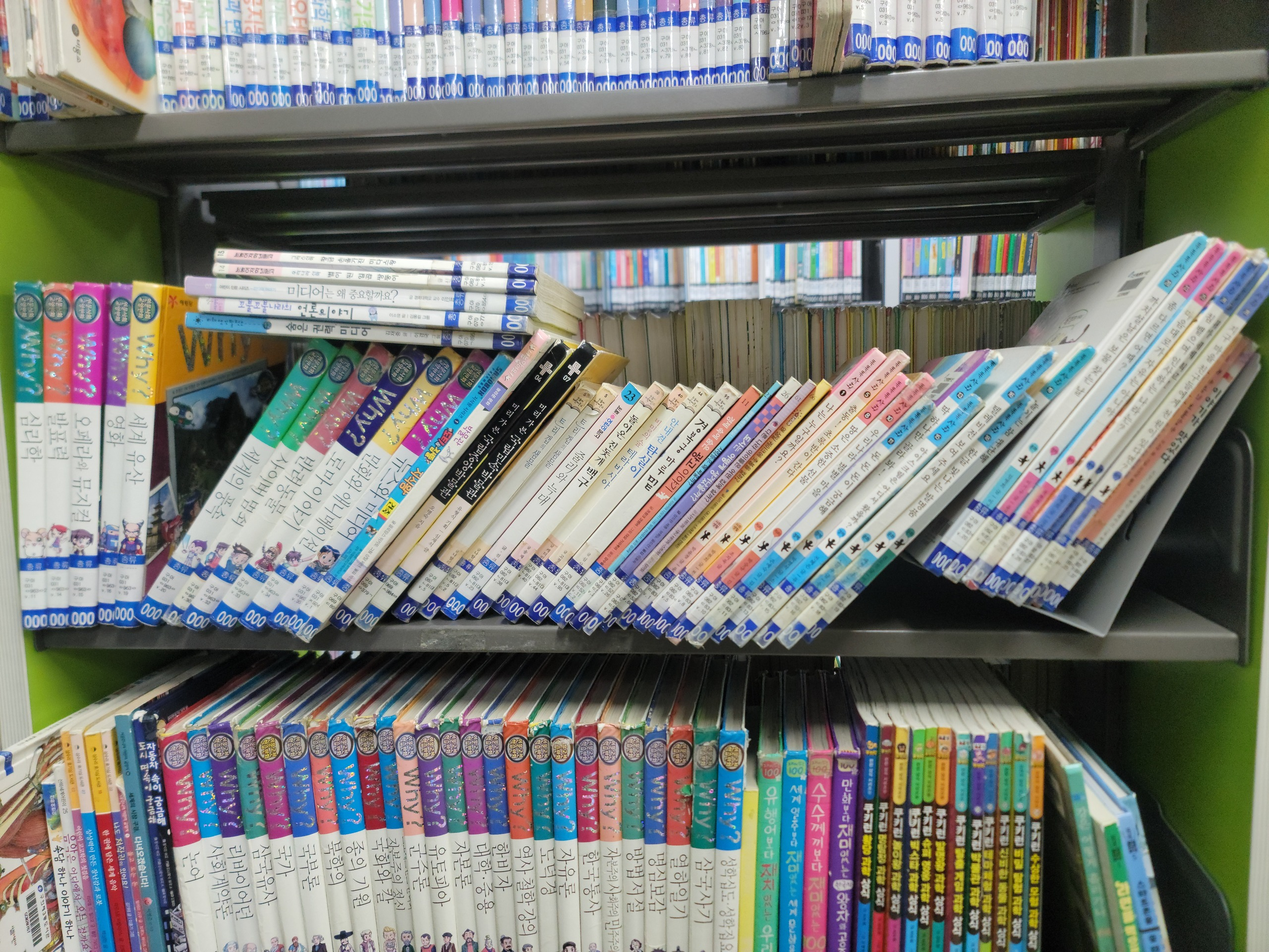book-spine: (925, 239, 1226, 595), (974, 247, 1268, 598), (906, 254, 1191, 595), (1003, 270, 1268, 607), (302, 326, 549, 638), (663, 373, 933, 644), (354, 337, 600, 631), (220, 343, 463, 630), (331, 347, 560, 632), (264, 349, 492, 633), (206, 345, 431, 632), (177, 343, 395, 633), (126, 340, 338, 629), (673, 349, 911, 604), (1037, 342, 1257, 613), (157, 345, 361, 627), (291, 360, 505, 619), (500, 392, 735, 623), (385, 385, 605, 624), (621, 395, 839, 623), (777, 426, 999, 648), (467, 379, 672, 618), (436, 381, 644, 613), (418, 381, 619, 616), (502, 390, 705, 622), (486, 382, 688, 614), (731, 428, 947, 643), (555, 386, 760, 608), (444, 392, 635, 612), (630, 389, 789, 563), (726, 347, 886, 513), (115, 275, 164, 629), (198, 285, 530, 331), (189, 275, 535, 314), (304, 504, 407, 634), (94, 283, 133, 626), (355, 423, 455, 552), (68, 283, 105, 628), (985, 343, 1096, 458), (187, 311, 511, 350), (11, 282, 46, 631), (935, 364, 1042, 466), (212, 261, 537, 294), (215, 247, 539, 278), (43, 283, 72, 627), (834, 438, 892, 496), (689, 589, 738, 647)
